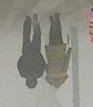person: (16, 14, 45, 89), (46, 11, 73, 90)
